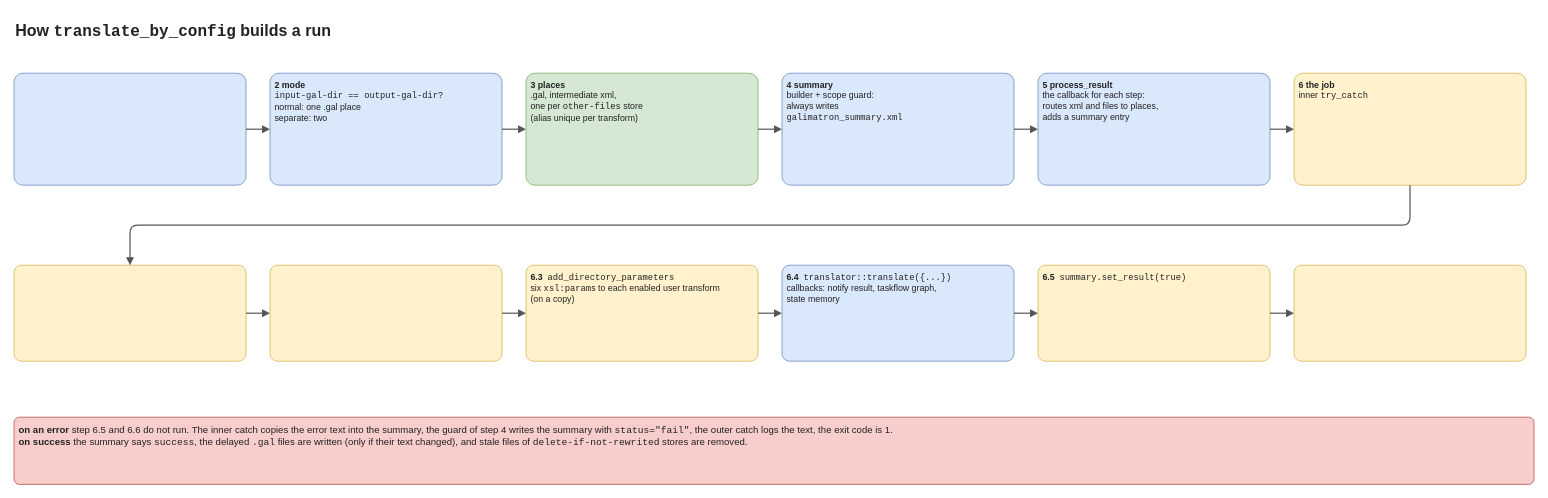
The diagram is 1548 pixels wide and 498 high, and some of its shapes have lost their labels. Each missing label, with the centre of its shape:
"1 filesystem physically::make_filesystem() filesystem_decorator_t fsd" belongs at (x=129, y=128).
"6.1 fsd.do_jobs_at_begin() create folders, delete the files of at_begin places" belongs at (x=129, y=312).
"6.2 crash::arm_summary(path)" belongs at (x=385, y=312).
"6.6 fsd.do_jobs_at_end() write delayed .gal, remove stale files" belongs at (x=1409, y=312).
